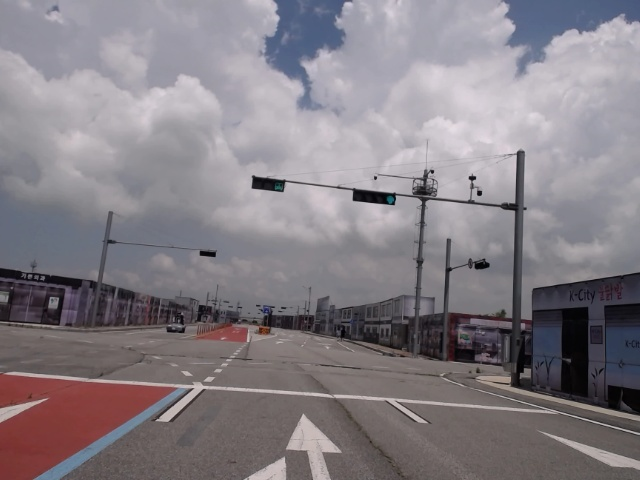straight_green_4: (352, 190, 395, 205)
